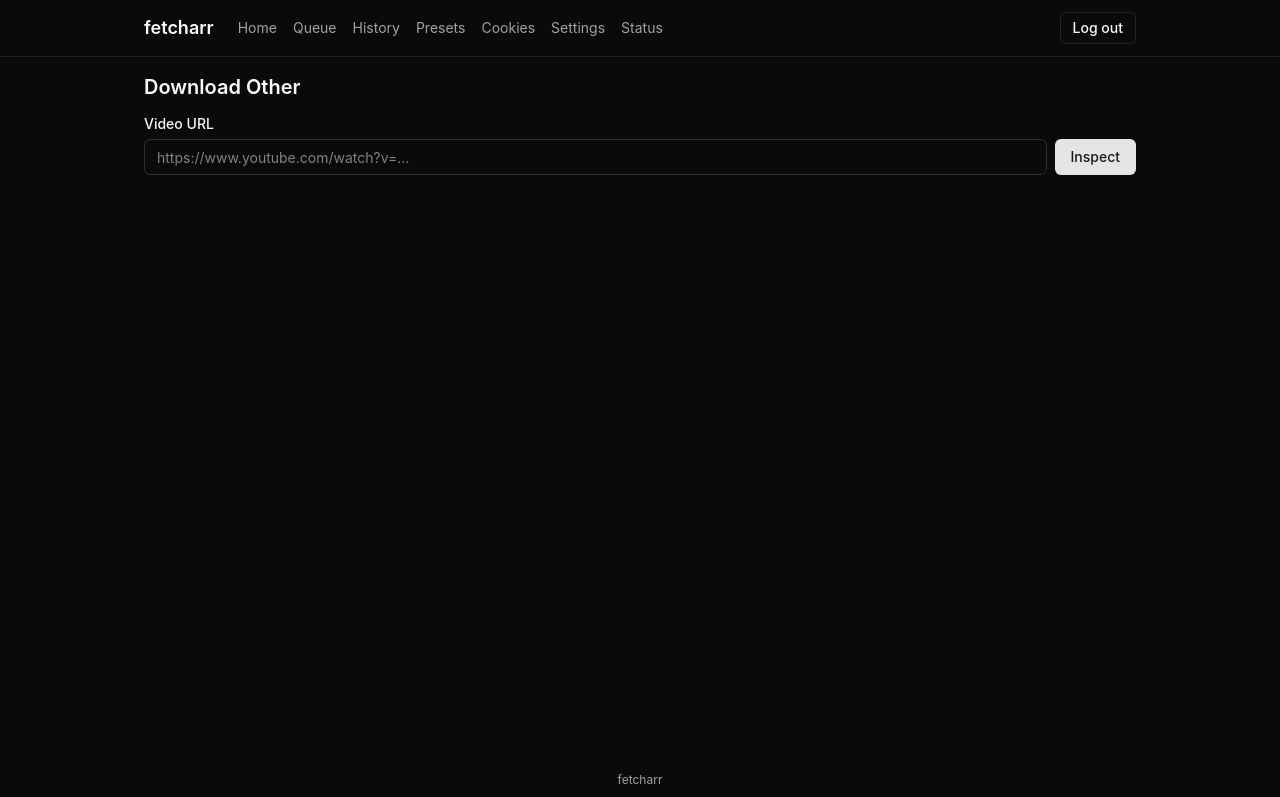
it: Other wizard › shows the cookies chip and sends use_cookies
The width and height of the screenshot is (1280, 797).
Type "https://www.youtube.com/watch?v=aqz-KE-bpKQ" into the field labelled "Video URL".
click(595, 157); type("https://www.youtube.com/watch?v=aqz-KE-bpKQ")  # box [144,139,1046,175]
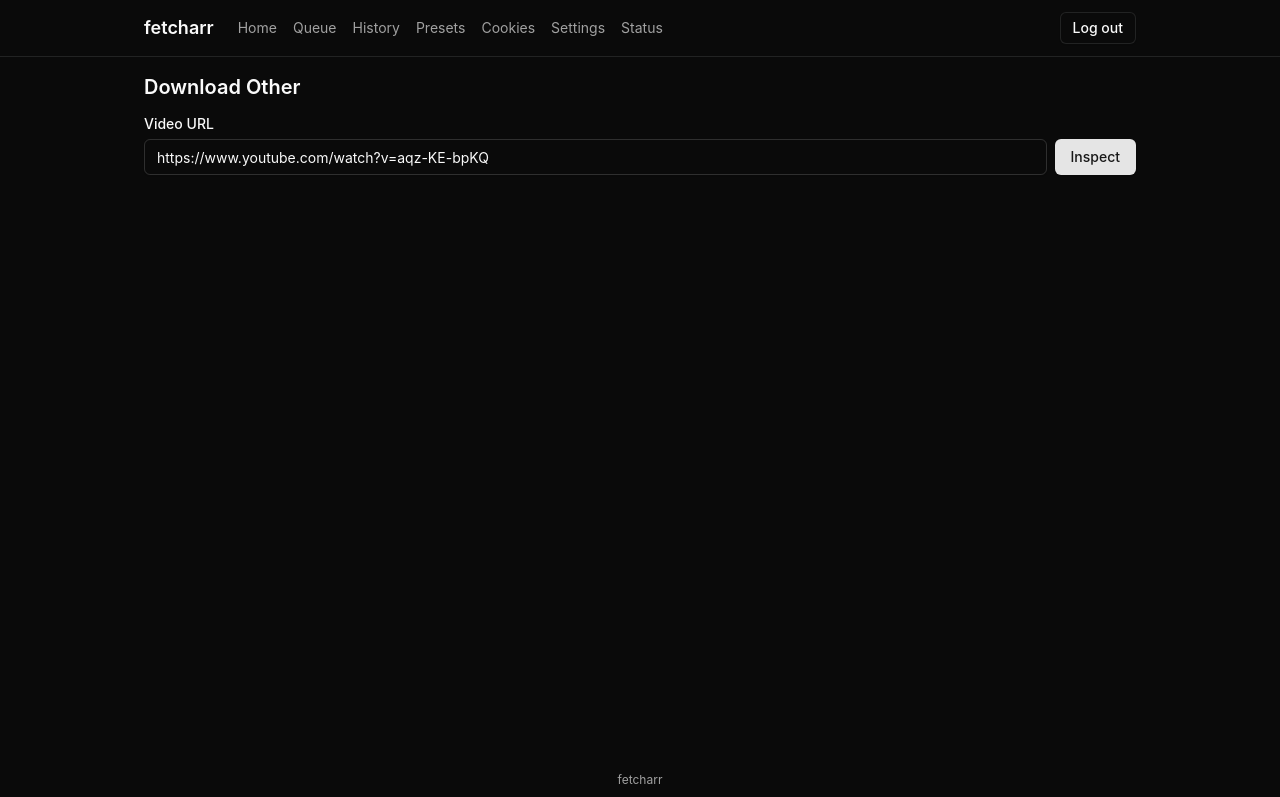
Click the button "Inspect".
click(1095, 157)  # box [1054,139,1136,175]
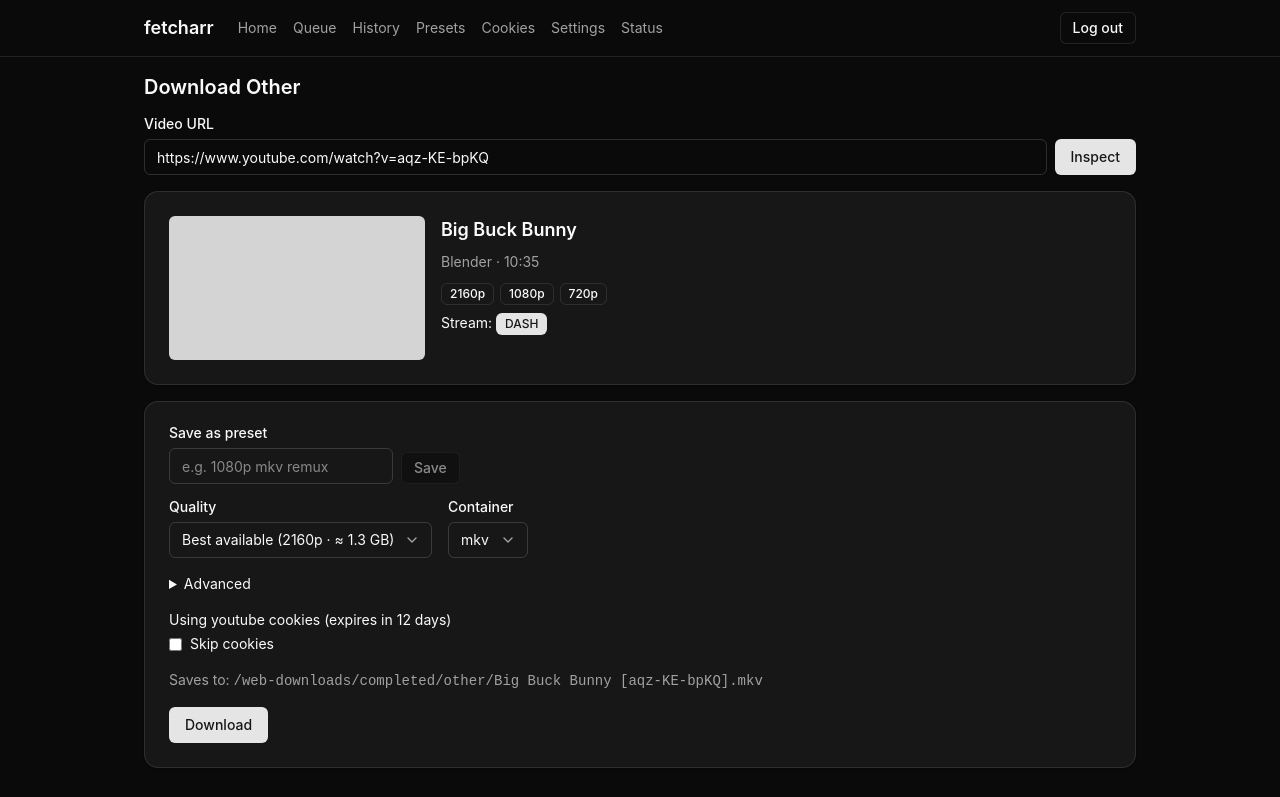
Expected: the element "cookies" shows "Using youtube cookies (expires in 12 days)", [169,611,452,652]
Expected: the checkbox labelled "Skip cookies" is not checked, [169,638,182,650]
Click the button "Download".
click(219, 725)  # box [169,707,268,743]
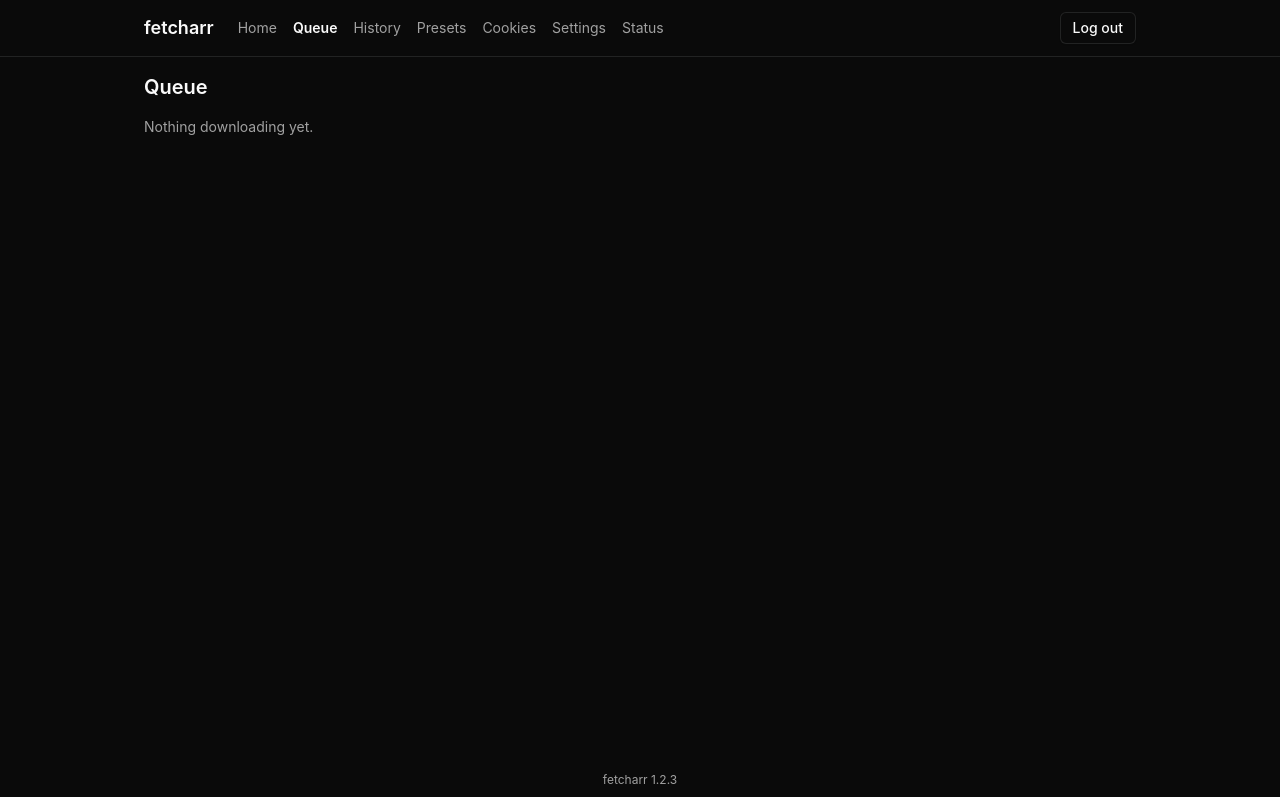
Expected: the heading "Queue" is shown, [144,75,208,99]
